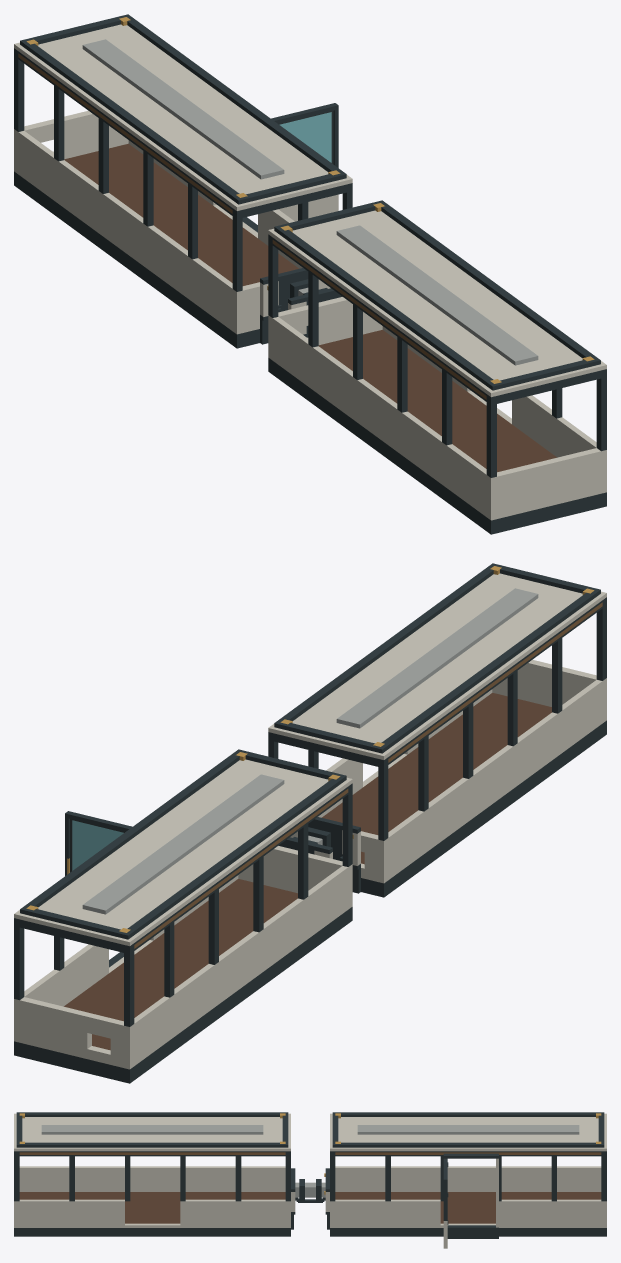
3 views of the same model, one above another, from view 1: azimuth 30°, elevation 25°; view 2: azimuth 150°, elevation 25°; view 3: azimuth 270°, elevation 25° (orthographic). The views are drawn at different scales.
Visible parts, largest first — view 1: 既有公共载具体壳盒 (×2), 两舱底部静态安装承台（辅助）, 城市道路载具门壳与铰接组件, 列车车厢端连挂组件; view 2: 既有公共载具体壳盒 (×2), 两舱底部静态安装承台（辅助）, 城市道路载具门壳与铰接组件, 列车车厢端连挂组件; view 3: 既有公共载具体壳盒 (×2), 两舱底部静态安装承台（辅助）, 城市道路载具门壳与铰接组件, 列车车厢端连挂组件.
Part boxes in pixels (x1=…): 既有公共载具体壳盒 (×2): x1=14, y1=14, x2=606, y2=526; 两舱底部静态安装承台（辅助）: x1=14, y1=177, x2=606, y2=534; 城市道路载具门壳与铰接组件: x1=242, y1=103, x2=338, y2=232; 列车车厢端连挂组件: x1=260, y1=268, x2=342, y2=337; 既有公共载具体壳盒 (×2): x1=14, y1=563, x2=606, y2=1075; 两舱底部静态安装承台（辅助）: x1=14, y1=726, x2=606, y2=1083; 城市道路载具门壳与铰接组件: x1=65, y1=811, x2=132, y2=967; 列车车厢端连挂组件: x1=278, y1=817, x2=360, y2=869; 既有公共载具体壳盒 (×2): x1=14, y1=1112, x2=606, y2=1231; 两舱底部静态安装承台（辅助）: x1=14, y1=1214, x2=606, y2=1238; 城市道路载具门壳与铰接组件: x1=443, y1=1153, x2=498, y2=1248; 列车车厢端连挂组件: x1=291, y1=1168, x2=329, y2=1214.
Bounding box in the file's own units: 5 × 3.6 × 21.4.
Materials: 9 (9 with a texture image).
